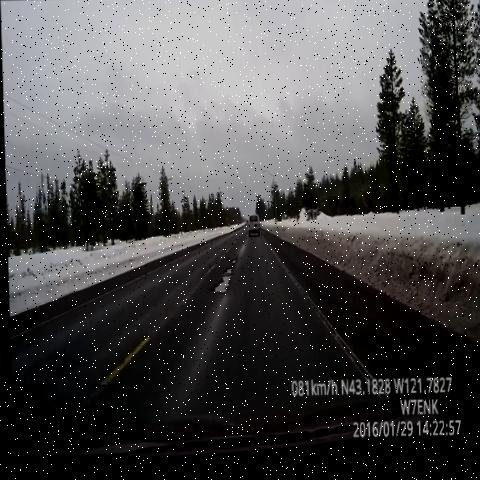pothole: (210, 270, 234, 304), (223, 254, 241, 274)
